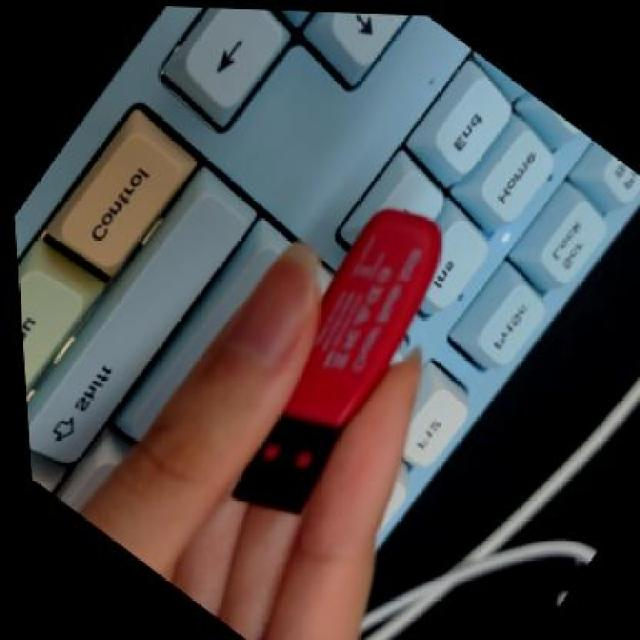Flashdisk: (166, 178, 494, 547)
